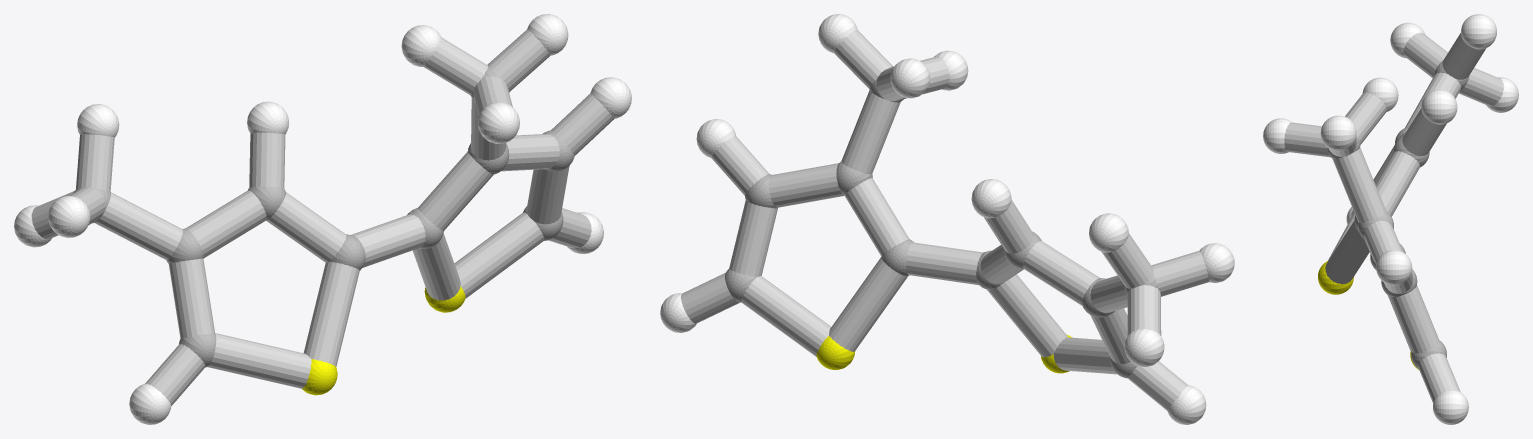
The model's file is Methylthiophene_Phi_20_Theta_230_Methylthiophene.glb.
3 renders of one model, left to right at view 1: azimuth 30°, elevation 25°; view 2: azimuth 150°, elevation 25°; view 3: azimuth 270°, elevation 25°, orthographic. The views are drawn at different scales.
Parts seen in each view (by area): view 1: grp7965, grp3621, grp1, grp7241; view 2: grp7965, grp3621, grp1, grp7241; view 3: grp7965, grp3621, grp1, grp7241.
Part boxes in pixels (bbox=[...]): grp7965: bbox=[31, 29, 614, 405]; grp3621: bbox=[14, 14, 631, 424]; grp1: bbox=[74, 66, 574, 367]; grp7241: bbox=[301, 286, 465, 395]; grp7965: bbox=[680, 30, 1209, 410]; grp3621: bbox=[660, 14, 1234, 424]; grp1: bbox=[725, 66, 1157, 378]; grp7241: bbox=[816, 335, 1071, 373]; grp7965: bbox=[1284, 32, 1503, 402]; grp3621: bbox=[1263, 14, 1518, 424]; grp1: bbox=[1327, 60, 1469, 368]; grp7241: bbox=[1318, 261, 1418, 369].
Bounding box in the file's own units: 9.44 × 5.1 × 4.25.
